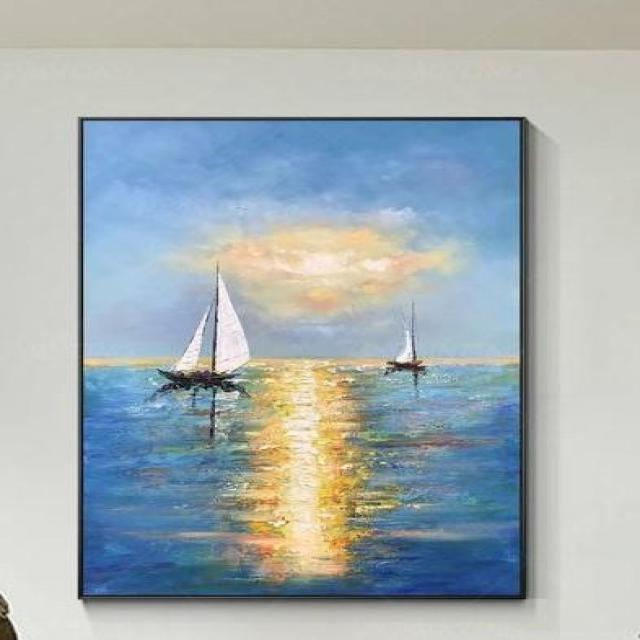painting: (78, 116, 523, 596)
